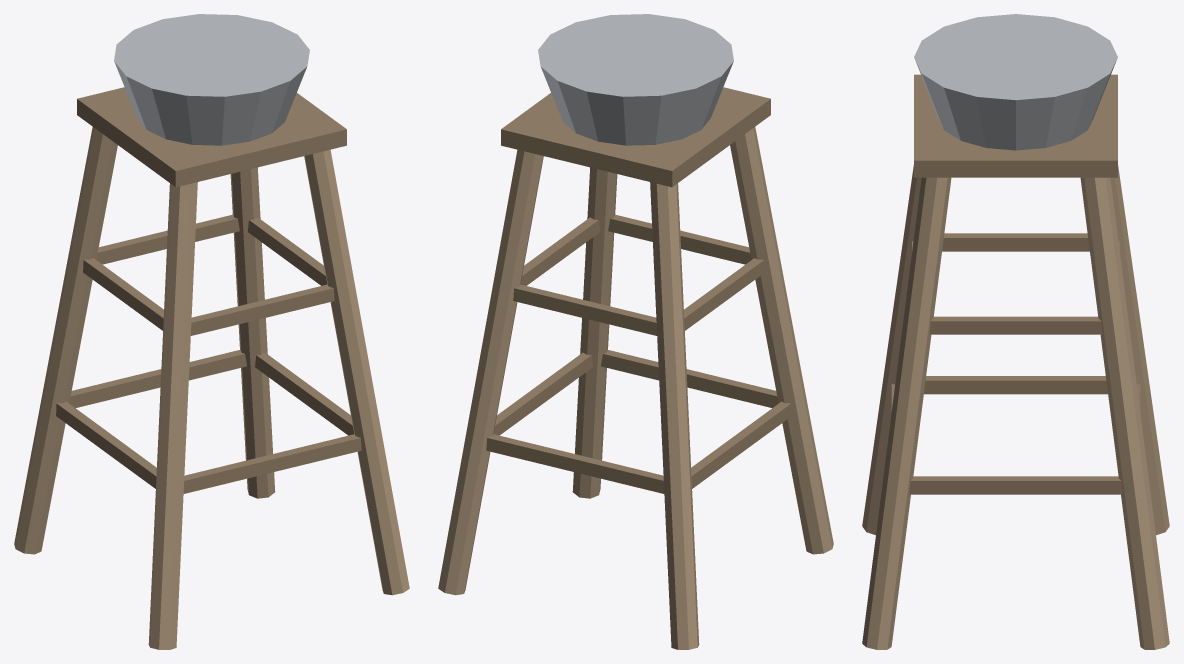
The model's file is beacon.fbx.
3 views of the same model, side by side, from view 1: azimuth 30°, elevation 25°; view 2: azimuth 150°, elevation 25°; view 3: azimuth 270°, elevation 25° (orthographic). The views are drawn at different scales.
Parts seen in each view (by area): view 1: Beacon; view 2: Beacon; view 3: Beacon.
Part boxes in pixels (x1=…): Beacon: x1=14, y1=14, x2=409, y2=649; Beacon: x1=438, y1=14, x2=833, y2=649; Beacon: x1=862, y1=14, x2=1169, y2=649.
Size of the model in its own units: 166 by 316 by 166.
